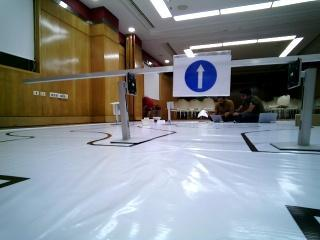straight: (175, 56, 229, 95)
